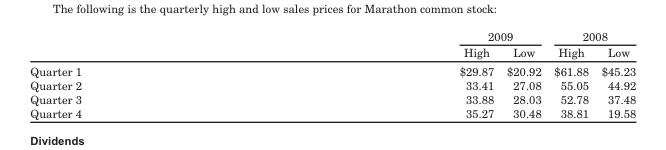table: (29, 28, 635, 119)
table column: (29, 28, 269, 119), (269, 28, 499, 119), (499, 28, 547, 119), (547, 28, 594, 119), (594, 28, 635, 119)
table column header: (29, 28, 635, 61)
table row: (29, 43, 635, 61), (29, 61, 635, 77), (29, 28, 635, 43), (29, 77, 635, 91), (29, 91, 635, 105), (29, 105, 635, 119)
table spanning cell: (269, 28, 547, 43), (547, 28, 635, 43)
